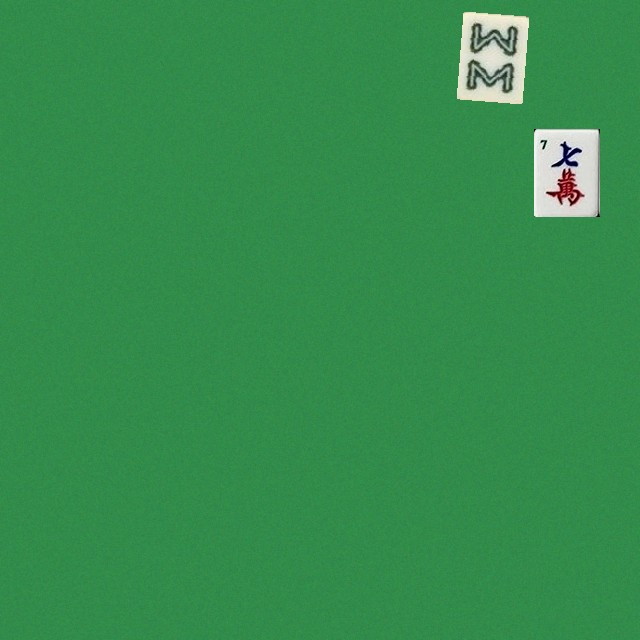tile: (533, 128, 599, 216), (456, 11, 522, 99)
